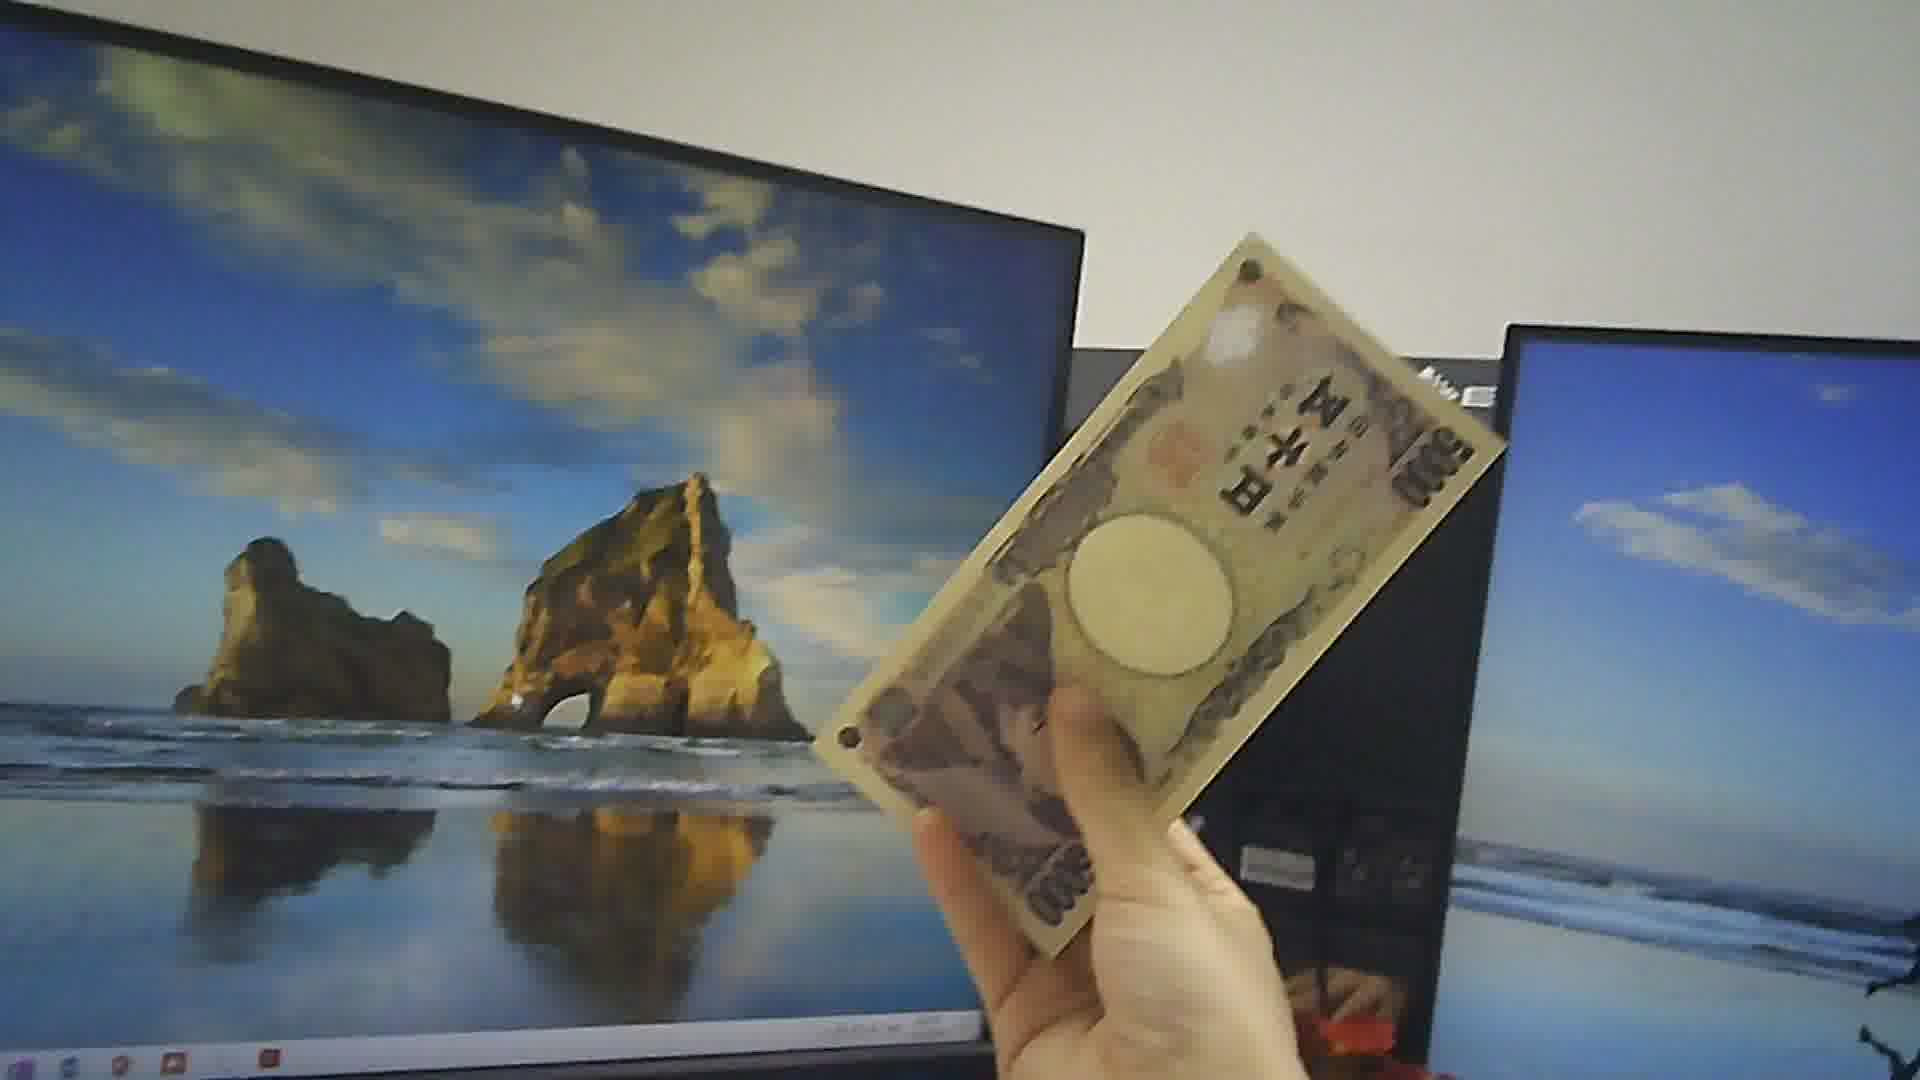5,000 Yen: (811, 211, 1509, 956)
